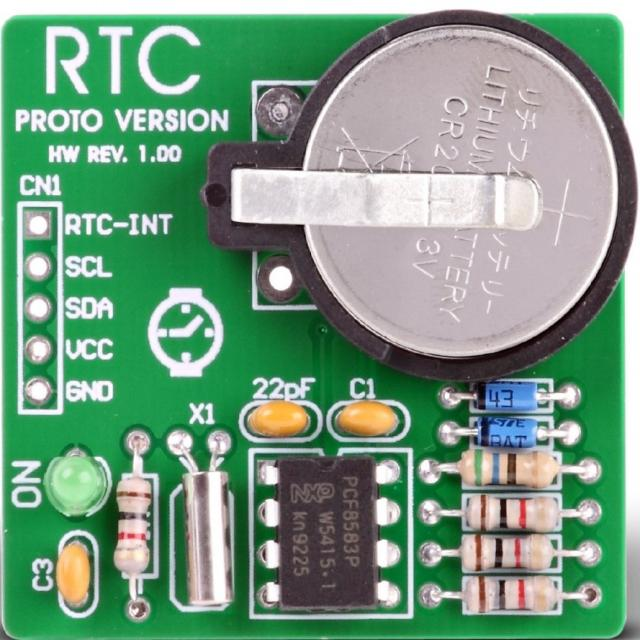IC: (259, 461, 397, 611)
LED: (46, 451, 99, 519)
battery: (253, 4, 640, 368)
capacitor 1V5: (242, 396, 310, 446), (50, 541, 94, 610), (330, 398, 399, 439)
clock Q1: (178, 431, 232, 590)
diode -D1-: (471, 414, 578, 447), (462, 387, 565, 411)
resistor IR1: (113, 445, 166, 580), (438, 444, 574, 493), (445, 576, 567, 619), (443, 537, 570, 576), (440, 496, 570, 530)
